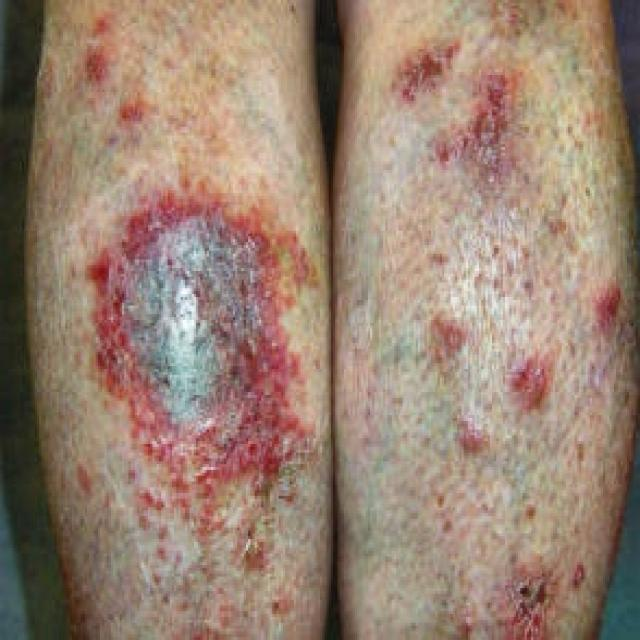Atopic-Dermatitis: (382, 59, 627, 551), (95, 209, 296, 468)
